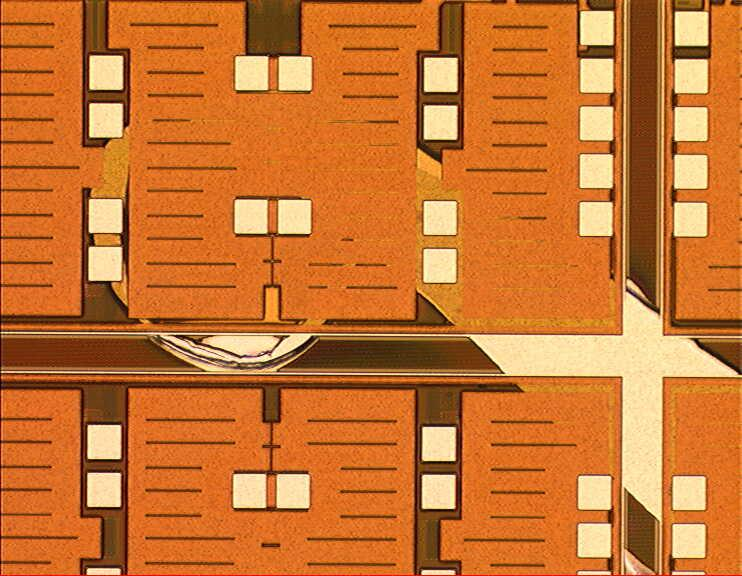BLOCK ETCH: (85, 54, 742, 576)
